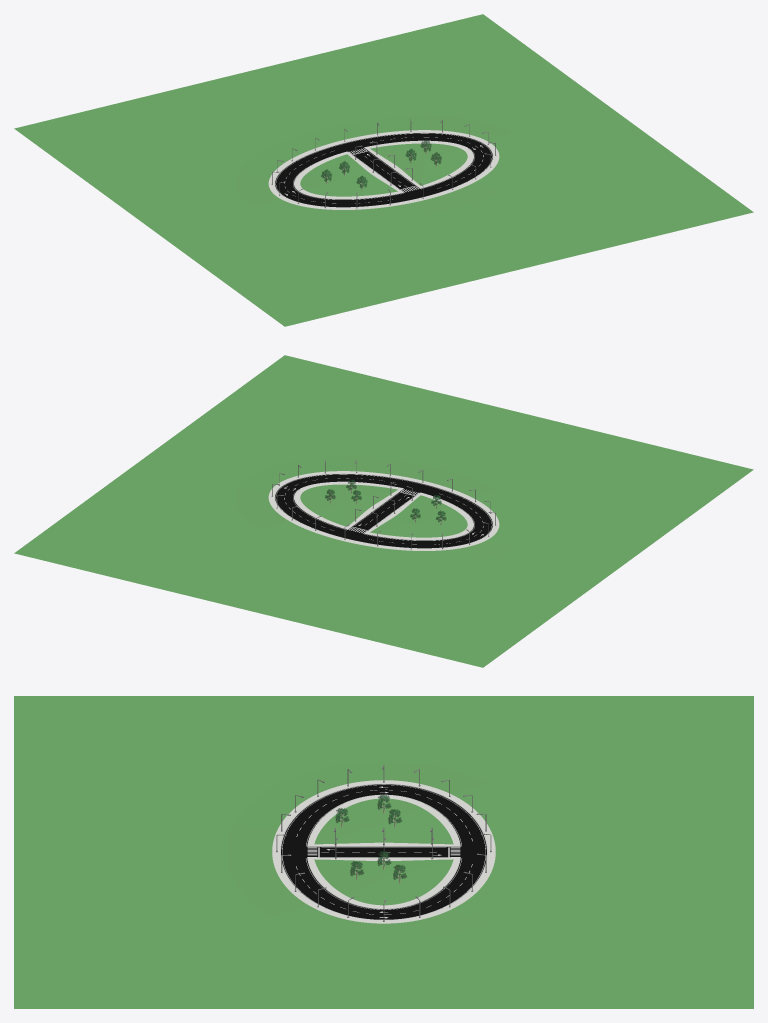
File: GeminiTrack.glb
3 renders of one model, top to bottom at view 1: azimuth 30°, elevation 25°; view 2: azimuth 150°, elevation 25°; view 3: azimuth 270°, elevation 25°, orthographic. The views are drawn at different scales.
Visible parts, largest first — view 1: Terrain_Ground, Outer_Curb_Sidewalk, Road_Asphalt, Island_Right, Island_Left; view 2: Terrain_Ground, Outer_Curb_Sidewalk, Road_Asphalt, Island_Left, Island_Right; view 3: Terrain_Ground, Outer_Curb_Sidewalk, Road_Asphalt, Island_Right, Island_Left.
Boxes of the visible parts, x1,y1,x2,y2 form: Terrain_Ground: (14, 14, 753, 326); Outer_Curb_Sidewalk: (235, 116, 532, 224); Road_Asphalt: (275, 133, 492, 207); Island_Right: (364, 140, 473, 188); Island_Left: (294, 151, 403, 199); Terrain_Ground: (14, 355, 753, 667); Outer_Curb_Sidewalk: (235, 457, 532, 565); Road_Asphalt: (275, 474, 492, 548); Island_Left: (364, 492, 473, 540); Island_Right: (294, 481, 403, 529); Terrain_Ground: (14, 696, 753, 1008); Outer_Curb_Sidewalk: (227, 761, 540, 943); Road_Asphalt: (281, 784, 486, 919); Island_Right: (307, 857, 460, 909); Island_Left: (307, 794, 460, 846).
Bounding box in the file's own units: 230 × 7.24 × 230.
Materials: 40 (30 with a texture image).
